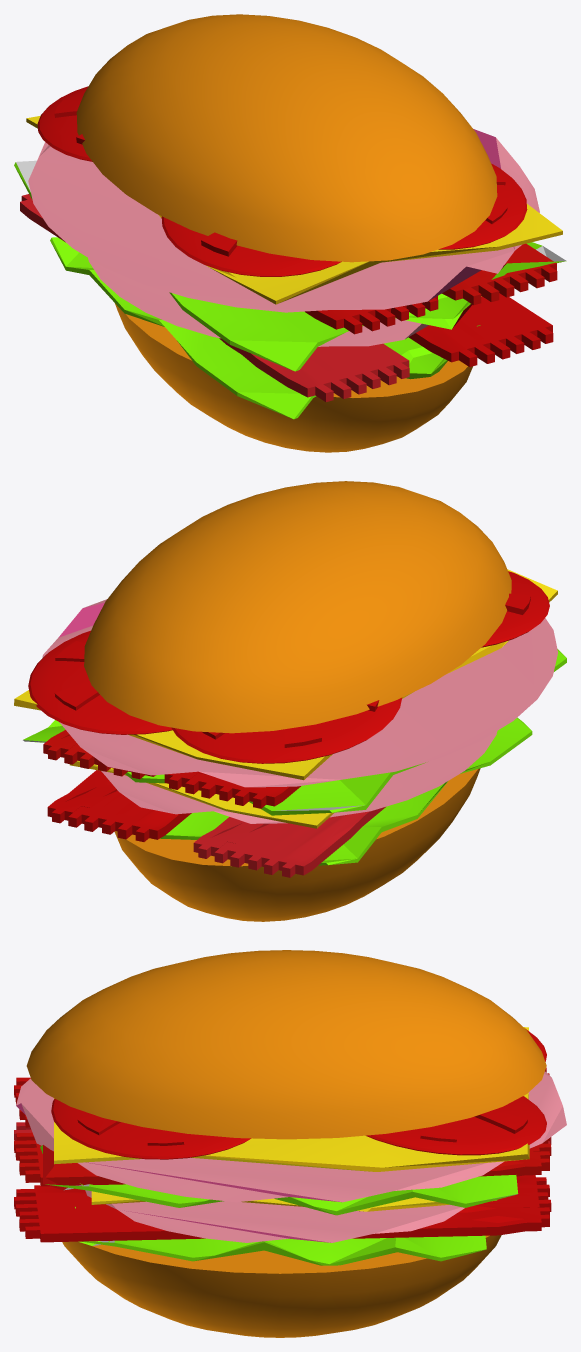
File: tasajo.glb
3 renders of one model, top to bottom at view 1: azimuth 30°, elevation 25°; view 2: azimuth 150°, elevation 25°; view 3: azimuth 270°, elevation 25°, orthographic. The views are drawn at different scales.
Visible parts, largest first — view 1: root; view 2: root; view 3: root.
Part boxes in pixels (x1,y1,x2,y2): root: (14, 14, 566, 452); root: (14, 481, 566, 921); root: (14, 950, 566, 1337).
Size of the model in its own units: 2.5 by 2.06 by 2.97.
